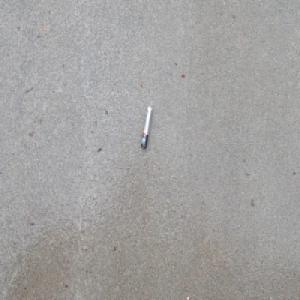Battery: (140, 104, 153, 150)
